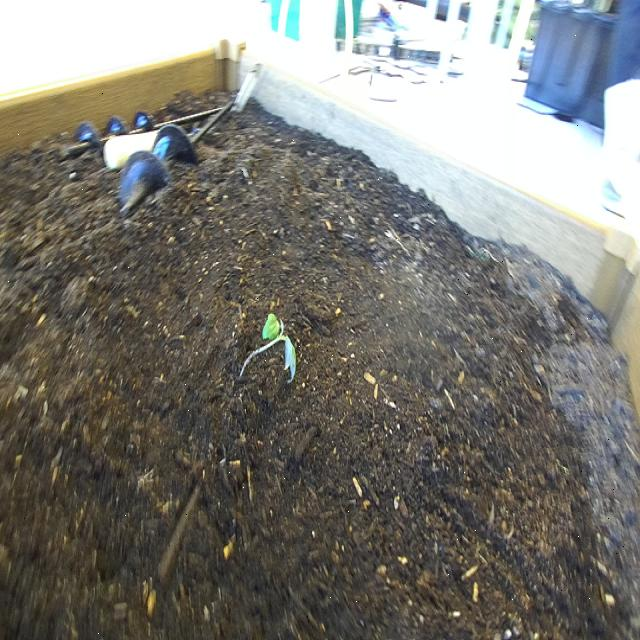Healthy: (238, 308, 300, 382)
